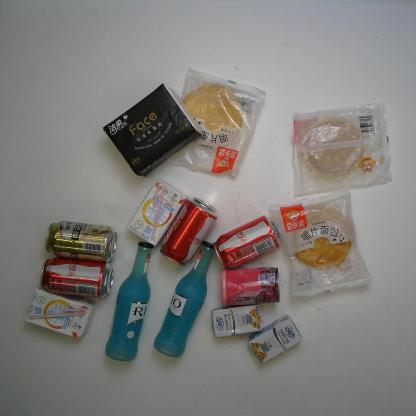Alcohol: (150, 238, 218, 358), (105, 236, 155, 364), (40, 220, 119, 262)
Canned Food: (219, 266, 281, 308)
Dessert: (161, 67, 267, 177), (271, 187, 373, 296), (288, 102, 394, 198)
Drink: (159, 196, 220, 267), (212, 213, 284, 270), (39, 255, 115, 300)
Milk: (126, 176, 190, 249), (24, 285, 97, 342), (246, 314, 303, 365), (210, 300, 266, 340)
Tissue: (103, 82, 205, 178)
